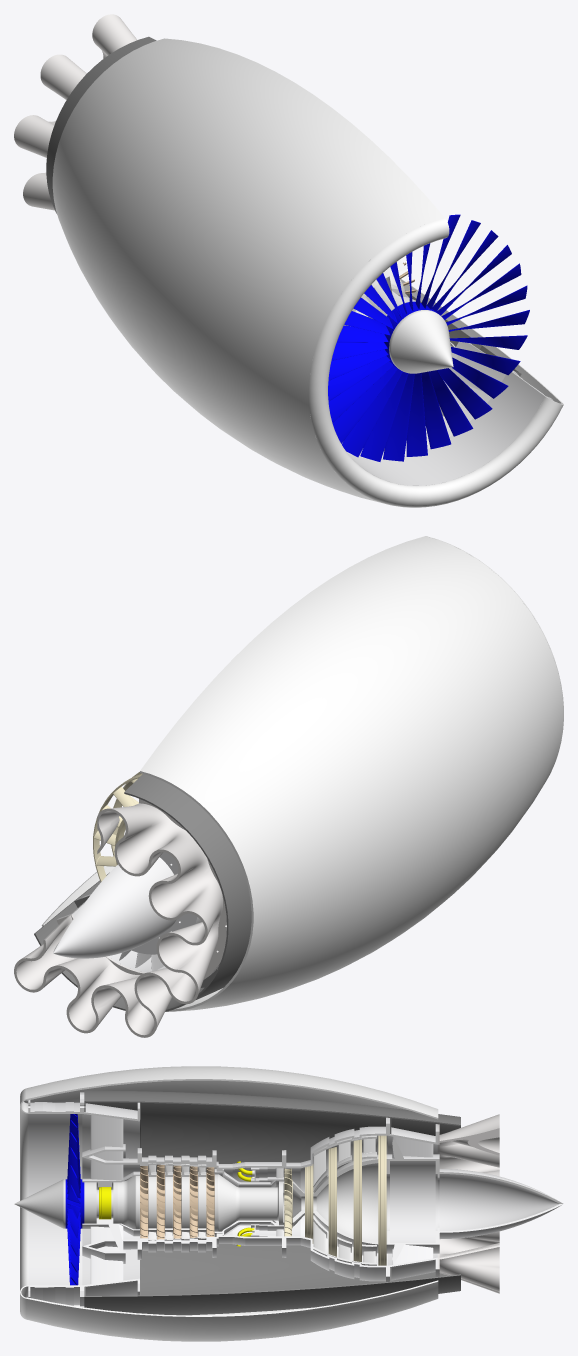
File: Jet_EngineCUT-compressed.glb
The picture shows the model from 3 angles, top to bottom: view 1: azimuth 30°, elevation 25°; view 2: azimuth 150°, elevation 25°; view 3: azimuth 270°, elevation 25°; orthographic projection. The views are drawn at different scales.
Parts seen in each view (by area): view 1: The Outer Case-1, Jet Engine Fan-1, Inlet Lip-1, Fan Casing-1, Exhaust Case-1, Nose Cone-1, The Inner Case-1, Fan Stator Casing-1; view 2: The Outer Case-1, Exhaust Case-1, The Inner Case-1, End Cone-1, Turbine Blade 05-1, Exhaust Nozzle-1; view 3: The Inner Case-1, The Outer Case-1, Fan Stator Casing-1, Fan Casing-1, Exhaust Nozzle-1, End Cone-1, Exhaust Case-1, High-Pressure Compressor Spool-2, Low-Pressure Turbine Spool-1, Low Pressure Turbine Casing-1, Low Pressure Turbine Stator-1, Jet Engine Fan-1 (+18 smaller).
Boxes of the visible parts, x1,y1,x2,y2 form: The Outer Case-1: (52,38,562,507); Jet Engine Fan-1: (328,214,529,461); Inlet Lip-1: (308,218,563,507); Fan Casing-1: (347,371,553,485); Exhaust Case-1: (14,14,137,210); Nose Cone-1: (389,310,453,373); The Inner Case-1: (46,36,521,376); Fan Stator Casing-1: (342,259,514,458); The Outer Case-1: (41,536,563,1011); Exhaust Case-1: (14,799,226,1037); The Inner Case-1: (34,774,251,1011); End Cone-1: (53,852,198,958); Turbine Blade 05-1: (93,773,142,881); Exhaust Nozzle-1: (58,894,218,977); The Inner Case-1: (84,1090,460,1315); The Outer Case-1: (26,1066,438,1341); Fan Stator Casing-1: (82,1092,139,1307); Fan Casing-1: (28,1092,82,1306); Exhaust Nozzle-1: (388,1118,437,1281); End Cone-1: (437,1154,563,1253); Exhaust Case-1: (437,1114,499,1293); High-Pressure Compressor Spool-2: (117,1174,283,1231); Low-Pressure Turbine Spool-1: (283,1154,387,1253); Low Pressure Turbine Casing-1: (284,1117,387,1281); Low Pressure Turbine Stator-1: (313,1135,376,1265); Jet Engine Fan-1: (65,1114,84,1285).
Bounding box in the file's own units: 0.6211 × 0.6661 × 1.33.
